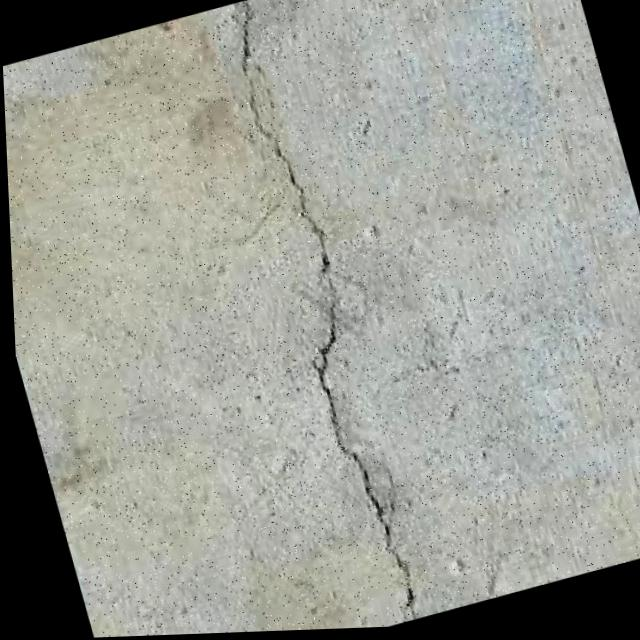Crack: (193, 0, 446, 634)
